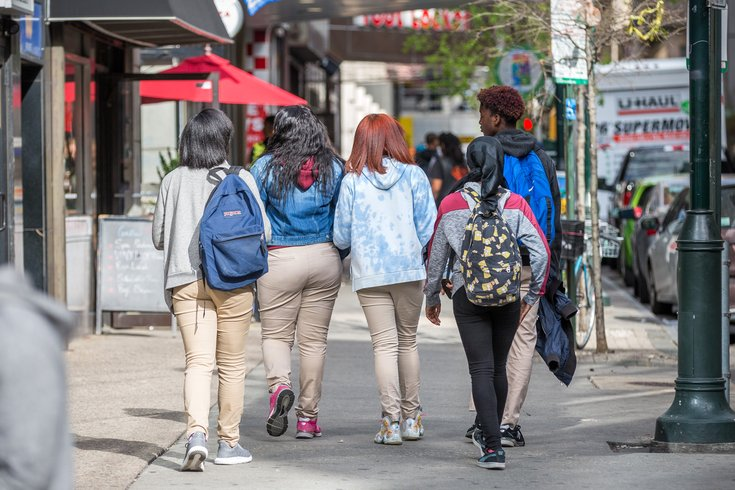Person: (151, 108, 272, 471), (424, 136, 552, 469), (333, 113, 440, 444), (247, 104, 351, 439), (478, 85, 562, 449)
